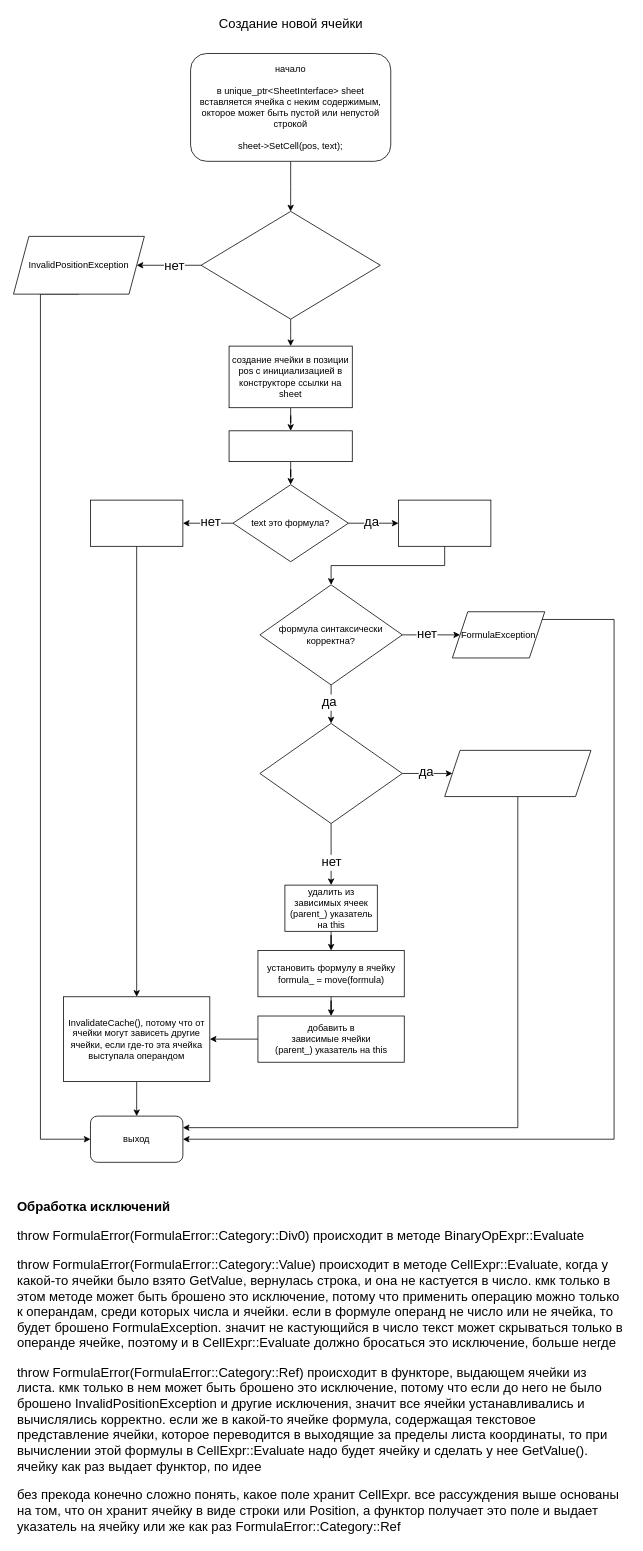
The diagram is 643 pixels wide and 1551 high, and some of its shapes have lost their labels. The centre of each missing label's shape, as x and y in pixels:
"CircularDependencyException" belongs at point (517, 773).
"pos корректна? (не отрицательные, не выходящие за пределы листа координаты)" belongs at point (290, 265).
"парсим формулу во временный объект formula" belongs at point (444, 522).
"установка содержимого text" belongs at point (290, 446).
"установка текстовой ячейки" belongs at point (136, 522).
"формула нест циклические зависимости в таблицу?" belongs at point (330, 773).
